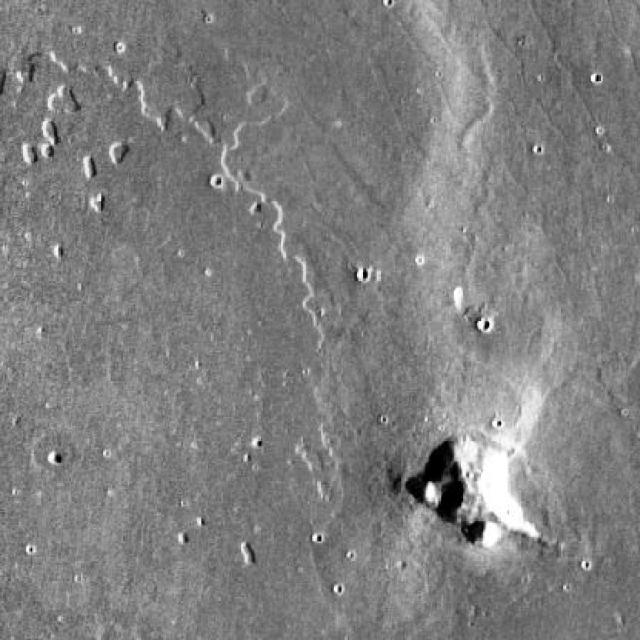crater: (48, 451, 63, 467)
